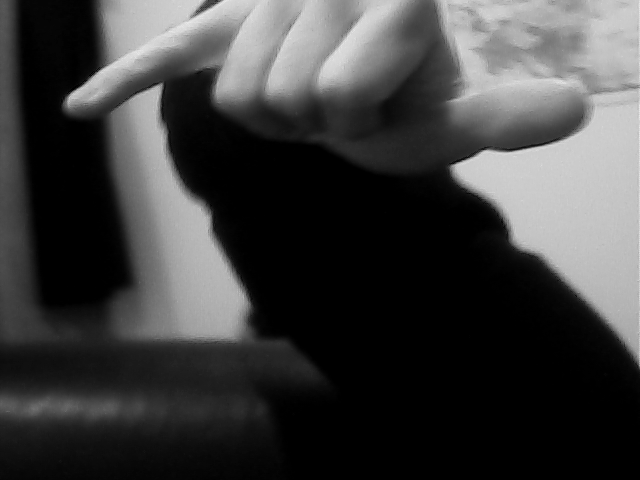aloha: (59, 1, 595, 179)
